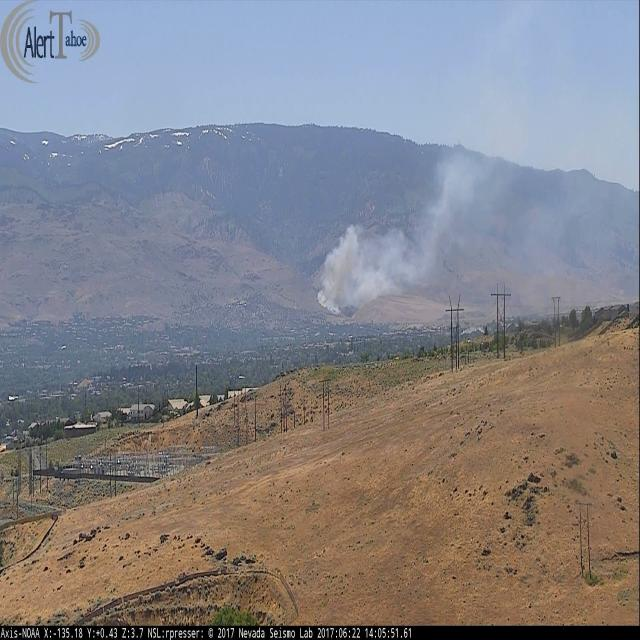smoke: (316, 209, 406, 316)
